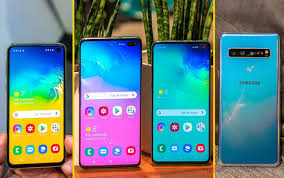iphone: (80, 36, 142, 168), (149, 36, 211, 168), (7, 40, 67, 167)
iphone10: (149, 36, 211, 168), (80, 35, 142, 167), (7, 40, 67, 167)
